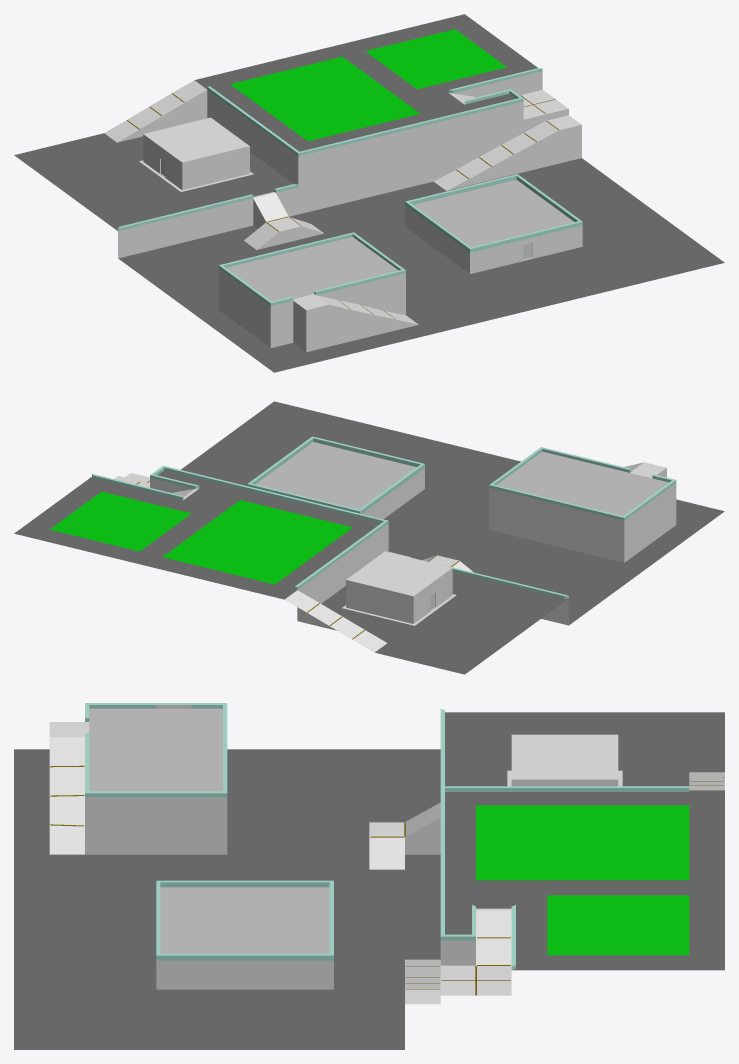
File: level-visual.fbx
The picture shows the model from 3 angles, top to bottom: view 1: azimuth 30°, elevation 25°; view 2: azimuth 150°, elevation 25°; view 3: azimuth 270°, elevation 25°; orthographic projection. The views are drawn at different scales.
Visible parts, largest first — view 1: floor; view 2: floor; view 3: floor.
Part boxes in pixels (x1,y1,x2,y2): floor: (14, 14, 724, 372); floor: (14, 401, 724, 674); floor: (14, 703, 724, 1049).
Size of the model in its own units: 500 by 64.63 by 500.
